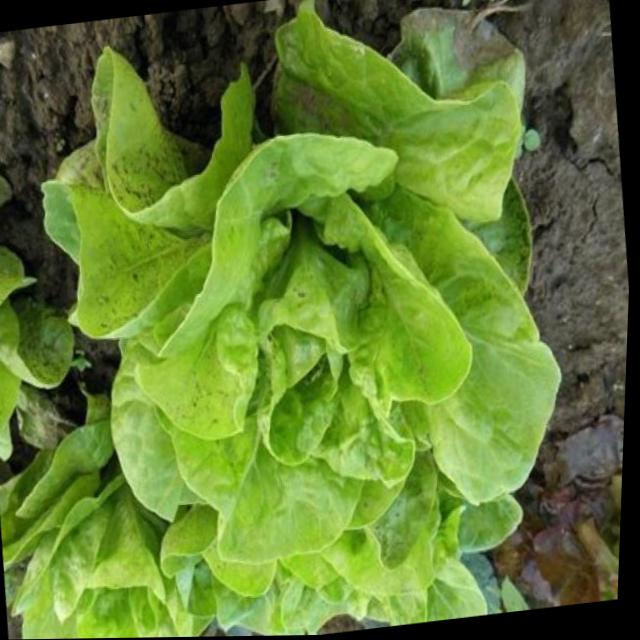Mature: (43, 17, 560, 636)
